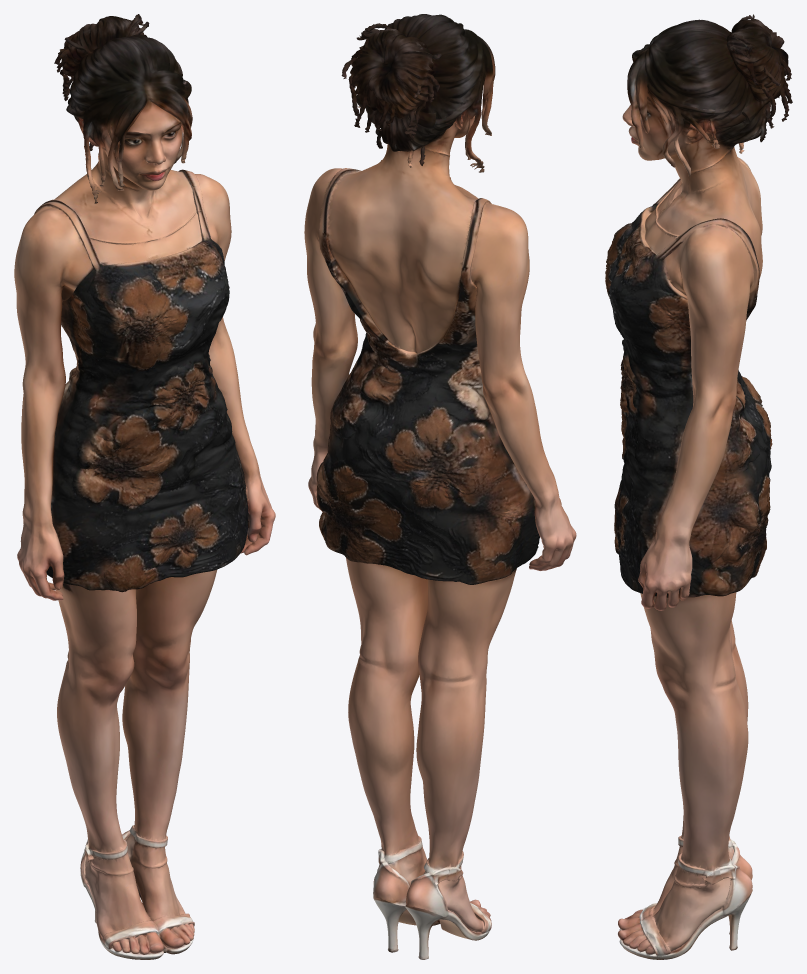
File: evening+dress+3d+model.glb
The picture shows the model from 3 angles, left to right: view 1: azimuth 30°, elevation 25°; view 2: azimuth 150°, elevation 25°; view 3: azimuth 270°, elevation 25°; orthographic projection. The views are drawn at different scales.
Parts seen in each view (by area): view 1: tripo_node_7eba2244-908a-4a82-ba93-320a16225f5a; view 2: tripo_node_7eba2244-908a-4a82-ba93-320a16225f5a; view 3: tripo_node_7eba2244-908a-4a82-ba93-320a16225f5a.
Part boxes in pixels (x1,y1,x2,y2): tripo_node_7eba2244-908a-4a82-ba93-320a16225f5a: (14, 14, 275, 959); tripo_node_7eba2244-908a-4a82-ba93-320a16225f5a: (304, 14, 576, 959); tripo_node_7eba2244-908a-4a82-ba93-320a16225f5a: (605, 14, 792, 959).
Size of the model in its own units: 0.2854 by 0.9801 by 0.1812.
Materials: 1 (1 with a texture image).
